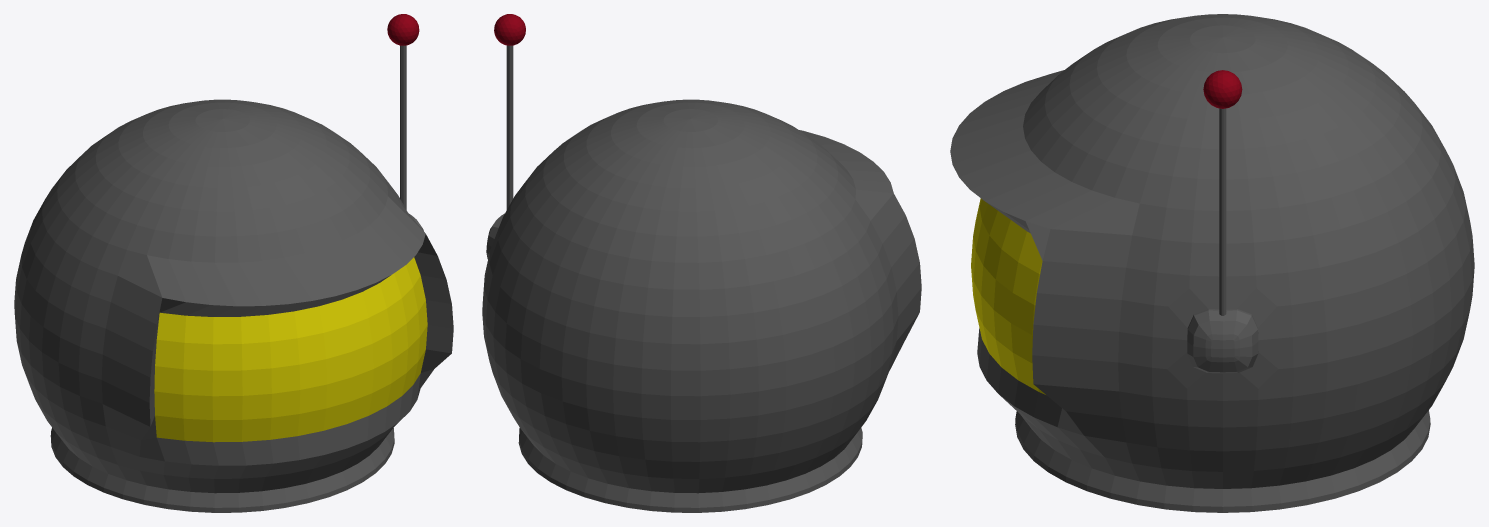
The model's file is helmet.fbx.
3 views of the same model, side by side, from view 1: azimuth 30°, elevation 25°; view 2: azimuth 150°, elevation 25°; view 3: azimuth 270°, elevation 25° (orthographic). The views are drawn at different scales.
Visible parts, largest first — view 1: Sphere; view 2: Sphere; view 3: Sphere.
Part boxes in pixels (x1,y1,x2,y2): Sphere: [14, 14, 453, 512]; Sphere: [482, 14, 921, 512]; Sphere: [950, 14, 1474, 512].
Bounding box in the file's own units: 209 × 204 × 208.
1 material, 1 textured.
